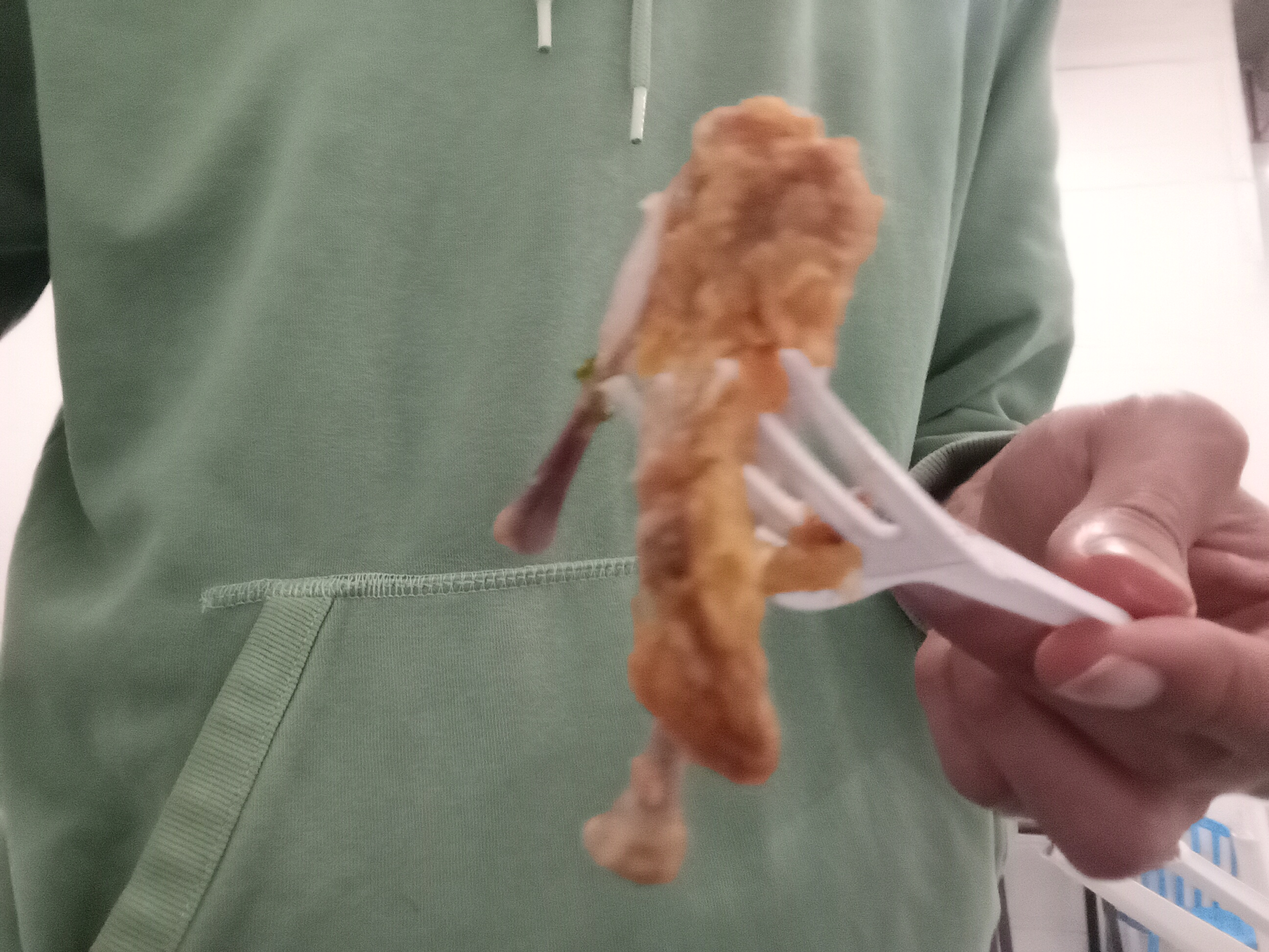Organico: (496, 96, 885, 884)
